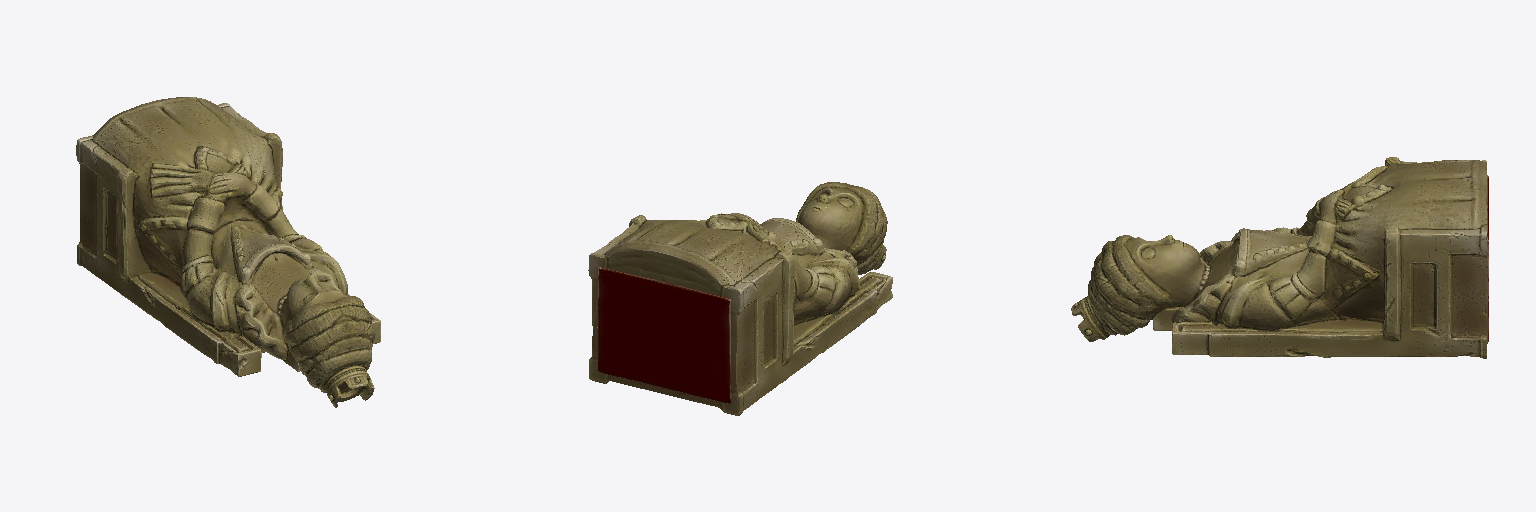
The picture shows the model from 3 angles: view 1: azimuth 30°, elevation 25°; view 2: azimuth 150°, elevation 25°; view 3: azimuth 270°, elevation 25°; orthographic projection.
Parts seen in each view (by area): view 1: mmGroup0; view 2: mmGroup0; view 3: mmGroup0.
Part boxes in pixels (left/top/right/bottom): mmGroup0: left=76, top=97, right=380, bottom=407; mmGroup0: left=588, top=182, right=892, bottom=415; mmGroup0: left=1071, top=157, right=1488, bottom=358.
Size of the model in its own units: 4.88 by 4.69 by 10.9.
1 materials, 1 textured.